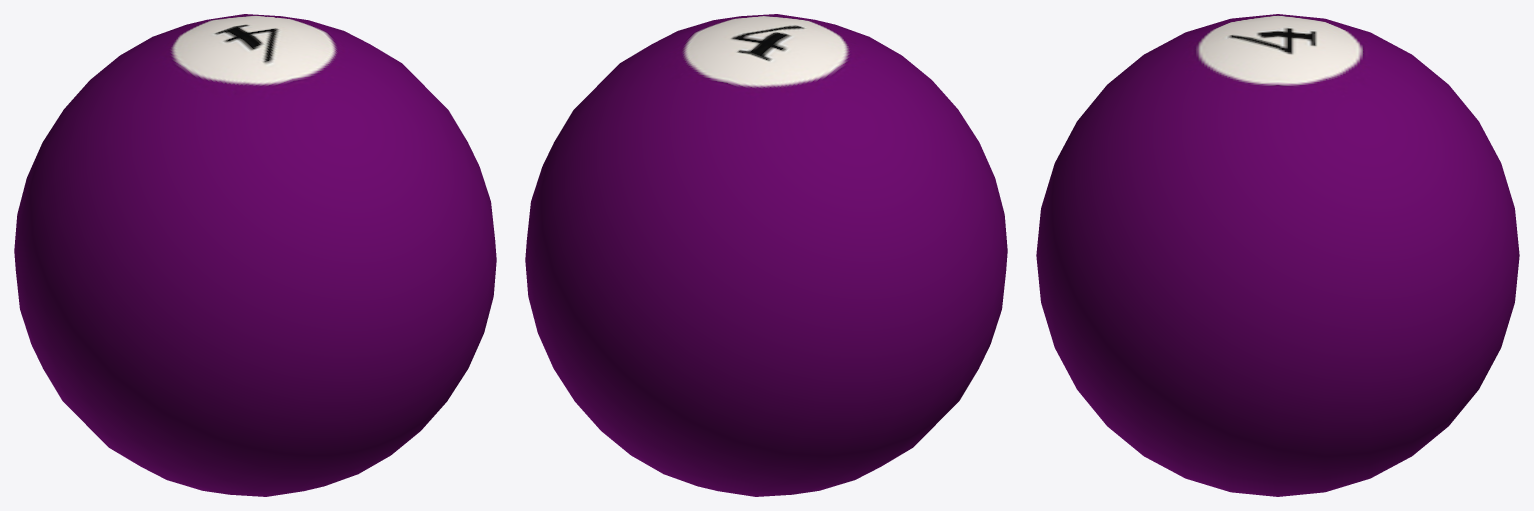
Rendered from Billiard Ball 4.glb.
3 renders of one model, left to right at view 1: azimuth 30°, elevation 25°; view 2: azimuth 150°, elevation 25°; view 3: azimuth 270°, elevation 25°, orthographic.
Parts seen in each view (by area): view 1: Ball4_07 - Default_0; view 2: Ball4_07 - Default_0; view 3: Ball4_07 - Default_0.
Part boxes in pixels (left/top/right/bottom): Ball4_07 - Default_0: left=14, top=14, right=496, bottom=496; Ball4_07 - Default_0: left=525, top=14, right=1007, bottom=496; Ball4_07 - Default_0: left=1036, top=14, right=1519, bottom=496.
Bounding box in the file's own units: 37.86 × 37.86 × 37.86.
Materials: 1 (1 with a texture image).
